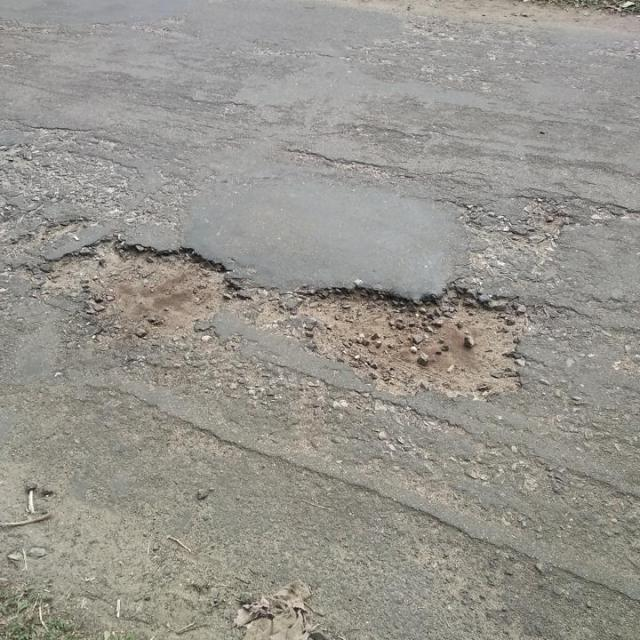pothole: (274, 280, 532, 402), (33, 233, 249, 341)
